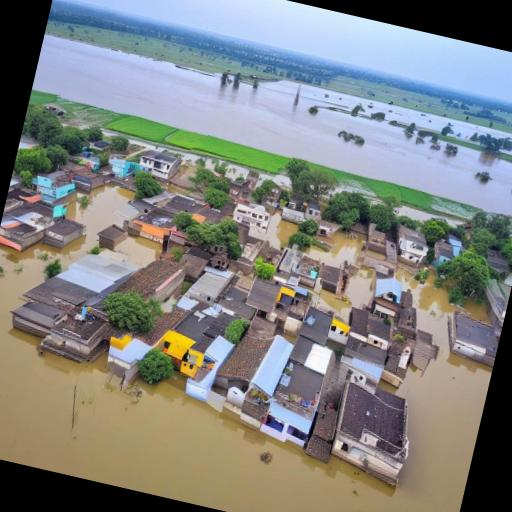flood: (0, 186, 493, 512), (32, 34, 512, 215), (101, 237, 160, 266), (310, 233, 363, 265), (314, 291, 350, 319), (349, 270, 373, 306), (268, 216, 295, 245)
house: (8, 238, 142, 355), (318, 375, 424, 473), (252, 346, 332, 446), (213, 322, 296, 408), (32, 298, 116, 372), (182, 331, 237, 408), (440, 309, 504, 369), (98, 330, 156, 392), (0, 206, 53, 257), (338, 335, 390, 380), (128, 210, 186, 248), (40, 212, 90, 256), (479, 278, 512, 337), (184, 266, 232, 306), (392, 224, 432, 269), (31, 166, 78, 204), (295, 338, 339, 378), (296, 304, 335, 348), (242, 276, 282, 318), (360, 220, 398, 262), (229, 198, 273, 234), (280, 197, 324, 232), (152, 329, 194, 364), (363, 313, 396, 351), (143, 151, 182, 181), (372, 271, 405, 306), (99, 220, 131, 254), (432, 234, 464, 268), (480, 245, 512, 277), (345, 306, 373, 342), (395, 304, 422, 338), (285, 295, 312, 326)
